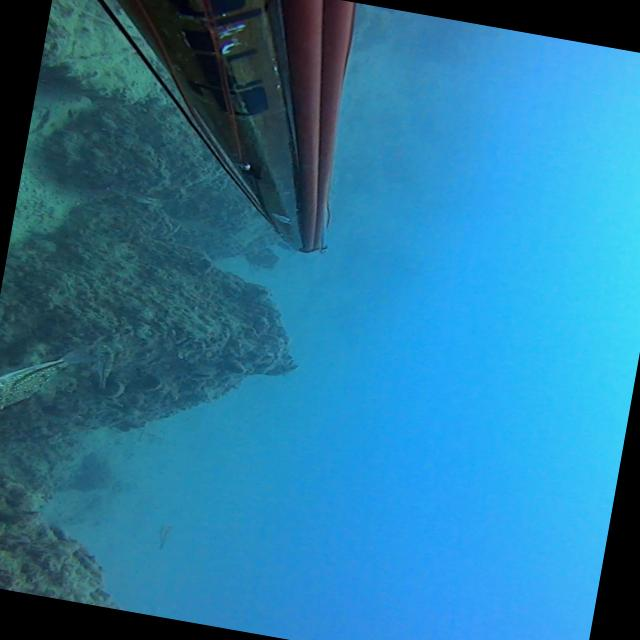Balon Baligi: (0, 332, 104, 426), (91, 343, 116, 388), (155, 521, 172, 550)
